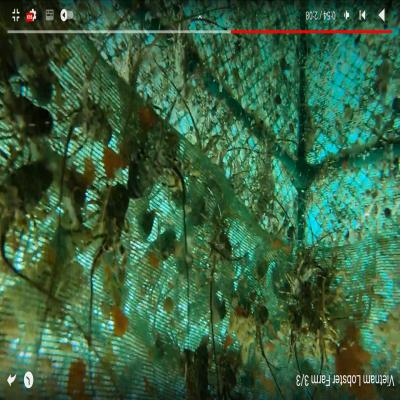lobster: (127, 125, 168, 200), (96, 182, 130, 257), (80, 79, 112, 152)
